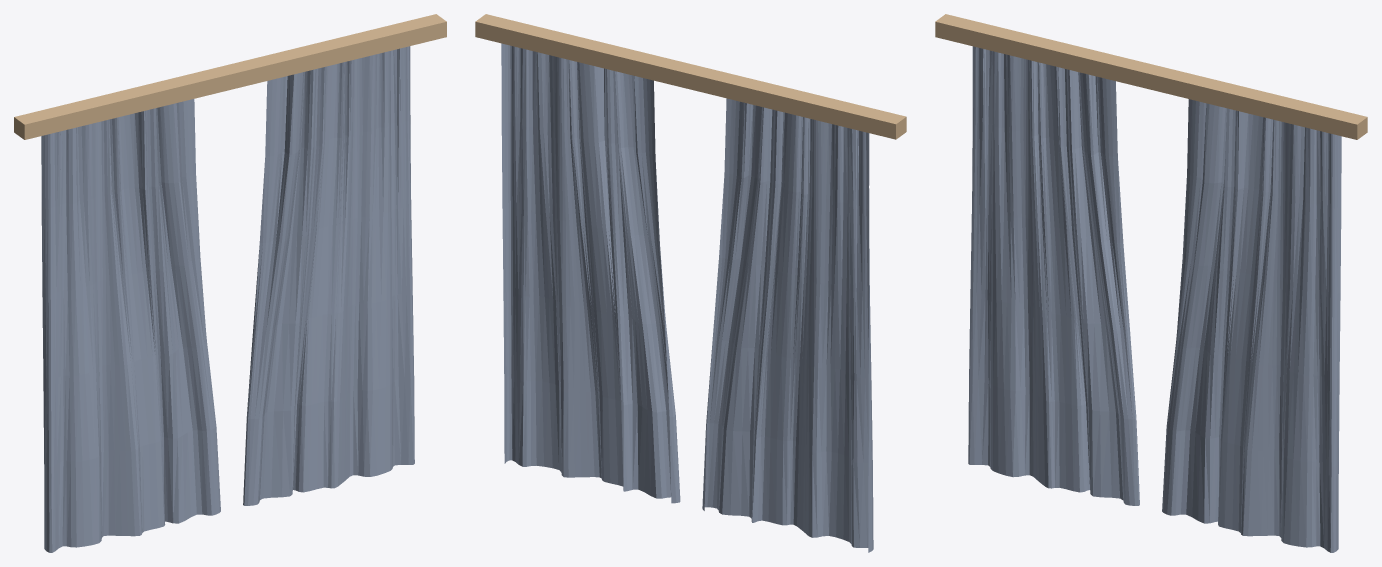
File: curtain02.obj
The picture shows the model from 3 angles, left to right: view 1: azimuth 30°, elevation 25°; view 2: azimuth 150°, elevation 25°; view 3: azimuth 330°, elevation 25°; orthographic projection.
Parts seen in each view (by area): view 1: Mesh1 curtain_00_1 skp94_1 Model, Mesh2 curtain_00_1 skp94_1 Model, Mesh3 curtain_00_1 skp94_1 Model; view 2: Mesh2 curtain_00_1 skp94_1 Model, Mesh1 curtain_00_1 skp94_1 Model, Mesh3 curtain_00_1 skp94_1 Model; view 3: Mesh2 curtain_00_1 skp94_1 Model, Mesh1 curtain_00_1 skp94_1 Model, Mesh3 curtain_00_1 skp94_1 Model.
Part boxes in pixels (box(x1,y1,x2,y2)): Mesh1 curtain_00_1 skp94_1 Model: box(41, 99, 220, 552); Mesh2 curtain_00_1 skp94_1 Model: box(243, 46, 414, 505); Mesh3 curtain_00_1 skp94_1 Model: box(14, 14, 446, 139); Mesh2 curtain_00_1 skp94_1 Model: box(501, 43, 680, 503); Mesh1 curtain_00_1 skp94_1 Model: box(702, 98, 873, 552); Mesh3 curtain_00_1 skp94_1 Model: box(475, 14, 906, 139); Mesh2 curtain_00_1 skp94_1 Model: box(1162, 99, 1341, 552); Mesh1 curtain_00_1 skp94_1 Model: box(968, 46, 1139, 505); Mesh3 curtain_00_1 skp94_1 Model: box(935, 14, 1367, 139).
Size of the model in its own units: 61545 by 61035 by 2914.
